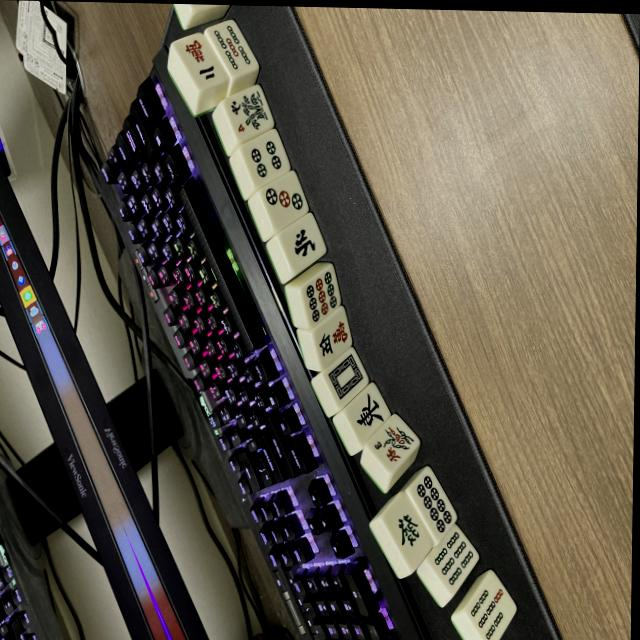2C: (172, 32, 230, 95)
3D: (257, 169, 311, 231)
3S: (363, 415, 421, 476)
4D: (238, 128, 294, 190)
4F: (222, 85, 276, 142)
5B: (206, 20, 258, 80)
5C: (308, 309, 355, 373)
6B: (425, 525, 482, 592)
7B: (462, 573, 519, 640)
8D: (404, 467, 460, 543)
9D: (298, 264, 343, 329)
EW: (337, 380, 393, 444)
GD: (377, 492, 439, 572)
NW: (277, 214, 329, 276)
WD: (321, 346, 371, 410)
